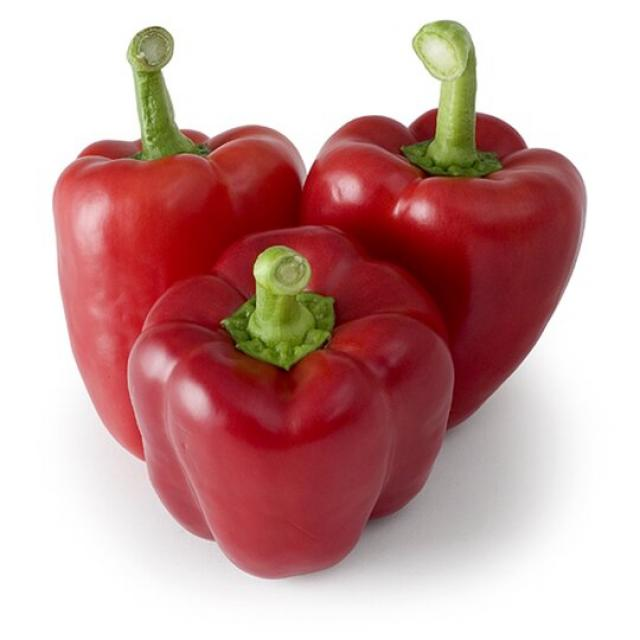pepper: (304, 19, 590, 428), (128, 225, 454, 578), (52, 25, 304, 462)
